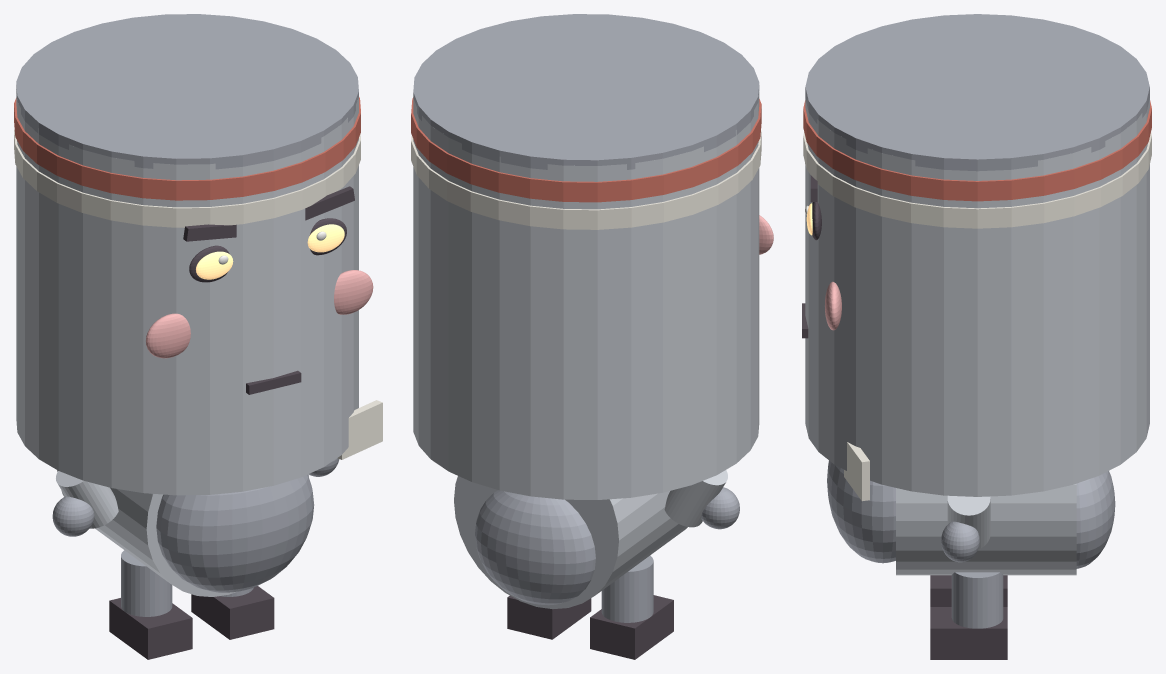
File: sock.glb
The picture shows the model from 3 angles, left to right: view 1: azimuth 30°, elevation 25°; view 2: azimuth 150°, elevation 25°; view 3: azimuth 270°, elevation 25°; orthographic projection.
Visible parts, largest first — view 1: Cuff, CuffRim, SockToe, StripeRed, StripeCream, SockFoot, Shoe_L, Shoe_R, Leg_L, Arm_L, Cheek_L, SockTag (+7 smaller); view 2: Cuff, CuffRim, SockHeel, SockFoot, StripeRed, StripeCream, Shoe_L, Leg_L, Shoe_R, Arm_L, Hand_L; view 3: Cuff, CuffRim, SockFoot, StripeRed, StripeCream, SockToe, Shoe_R, SockHeel, Leg_R, Arm_R, Hand_R, SockTag (+2 smaller).
Boxes of the visible parts, x1=… form: Cuff: x1=16, y1=90, x2=358, y2=495; CuffRim: x1=16, y1=14, x2=358, y2=169; SockToe: x1=156, y1=474, x2=314, y2=592; StripeRed: x1=14, y1=97, x2=360, y2=200; StripeCream: x1=14, y1=129, x2=360, y2=227; SockFoot: x1=57, y1=470, x2=308, y2=596; Shoe_L: x1=109, y1=598, x2=192, y2=659; Shoe_R: x1=191, y1=586, x2=274, y2=639; Leg_L: x1=121, y1=550, x2=172, y2=616; Arm_L: x1=56, y1=471, x2=118, y2=528; Cheek_L: x1=145, y1=313, x2=190, y2=358; SockTag: x1=337, y1=400, x2=382, y2=459; Cuff: x1=413, y1=91, x2=759, y2=499; CuffRim: x1=413, y1=14, x2=759, y2=169; SockHeel: x1=475, y1=490, x2=595, y2=605; SockFoot: x1=454, y1=476, x2=687, y2=609; StripeRed: x1=411, y1=97, x2=761, y2=202; StripeCream: x1=411, y1=130, x2=761, y2=229; Shoe_L: x1=590, y1=595, x2=673, y2=659; Leg_L: x1=601, y1=555, x2=653, y2=622; Shoe_R: x1=507, y1=595, x2=591, y2=639; Arm_L: x1=664, y1=470, x2=727, y2=527; Hand_L: x1=701, y1=487, x2=739, y2=529; Cuff: x1=805, y1=98, x2=1149, y2=496; CuffRim: x1=805, y1=14, x2=1149, y2=171; SockFoot: x1=896, y1=483, x2=1076, y2=575; StripeRed: x1=803, y1=100, x2=1151, y2=201; StripeCream: x1=803, y1=132, x2=1151, y2=228; SockToe: x1=827, y1=460, x2=895, y2=563; Shoe_R: x1=930, y1=607, x2=1007, y2=659; SockHeel: x1=1076, y1=471, x2=1115, y2=568; Leg_R: x1=951, y1=572, x2=1003, y2=628; Arm_R: x1=947, y1=495, x2=990, y2=549; Hand_R: x1=941, y1=521, x2=979, y2=562; SockTag: x1=844, y1=442, x2=869, y2=501.
Size of the model in its own units: 1.17 by 2 by 1.17.
